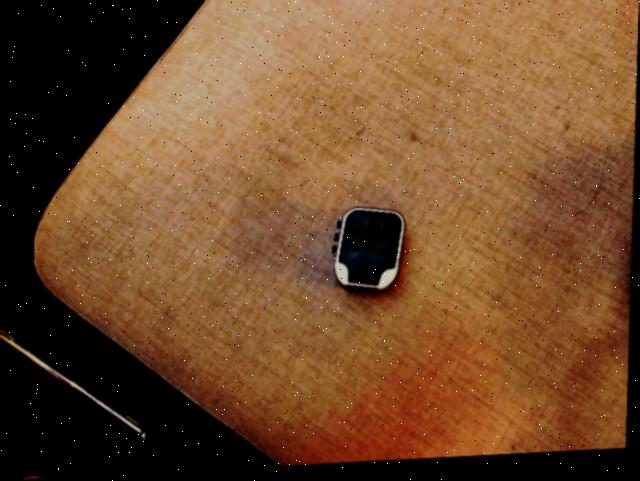adapter: (331, 208, 406, 297)
